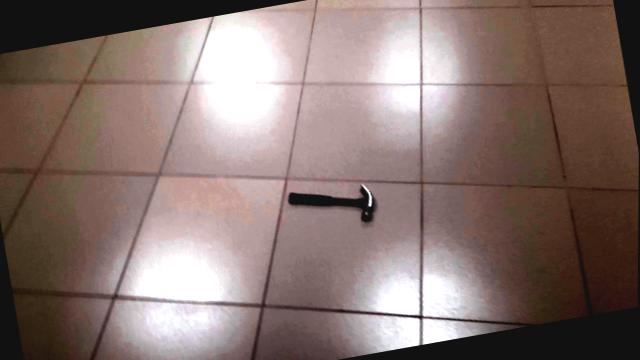hammer: (280, 166, 386, 240)
